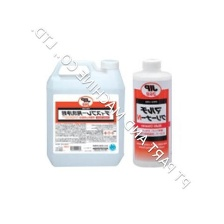cleaning_solution: (44, 57, 125, 169), (130, 56, 173, 169)
